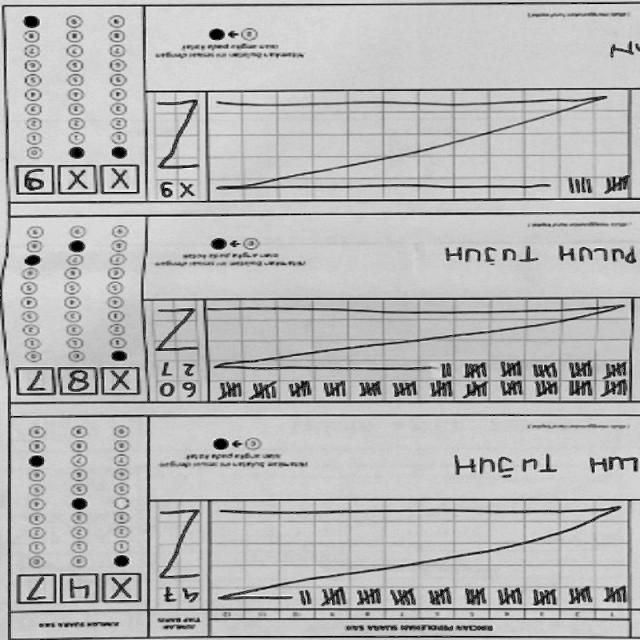Suara: (12, 570, 142, 605), (14, 164, 140, 191), (10, 366, 136, 392)
